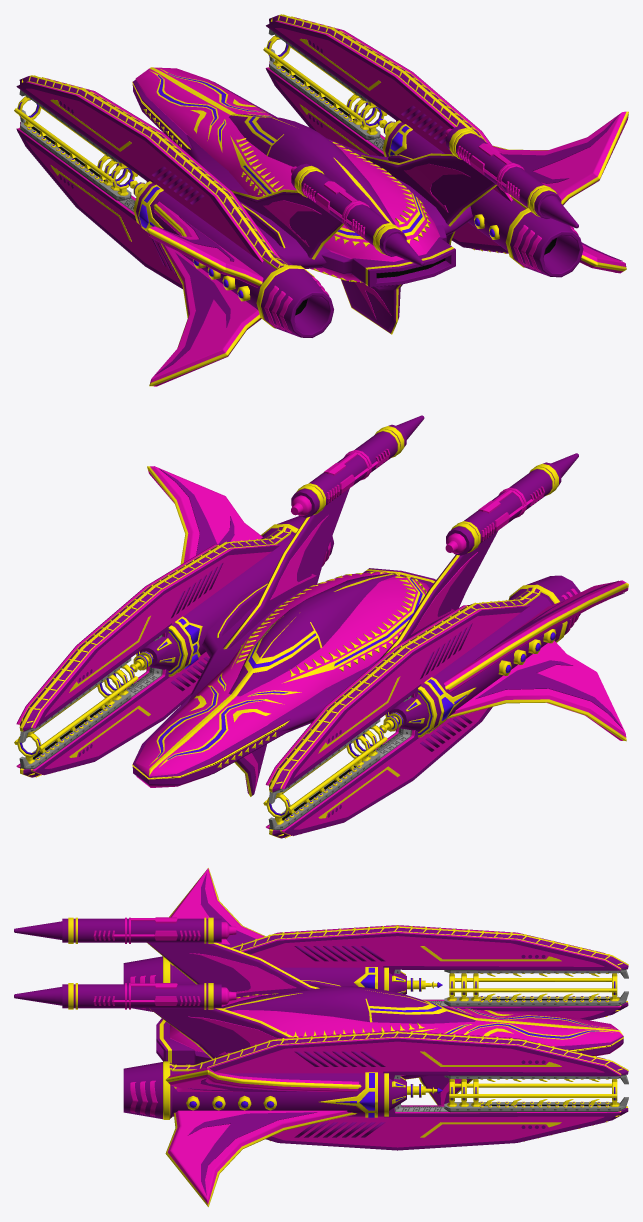
Rendered from AlienStarfighterTest2.fbx.
3 views of the same model, one above another, from view 1: azimuth 30°, elevation 25°; view 2: azimuth 150°, elevation 25°; view 3: azimuth 270°, elevation 25° (orthographic). The views are drawn at different scales.
Visible parts, largest first — view 1: Cylinder.003, Sphere, Cylinder.001, Cube.001, Cube.005, Cylinder.004, Cube.004, Sphere.001, Cylinder.010, Cube.006, Cube.019, Cylinder.006 (+13 smaller); view 2: Cylinder.003, Sphere, Cylinder.001, Cube.005, Sphere.001, Cube.001, Cylinder.004, Cube.004, Cylinder.010, Cube.006, Cube.010, Cube.019 (+10 smaller); view 3: Cylinder.003, Cylinder.001, Sphere, Cylinder.004, Cube.001, Sphere.001, Cube.004, Cube.006, Cube.005, Cylinder.022, Cube.010, Cube.017 (+12 smaller).
Boxes of the visible parts, x1,y1,x2,y2 form: Cylinder.003: [16, 14, 512, 288]; Sphere: [132, 67, 455, 287]; Cylinder.001: [128, 118, 583, 337]; Cube.001: [230, 153, 496, 259]; Cube.005: [147, 111, 628, 287]; Cylinder.004: [291, 126, 578, 265]; Cube.004: [149, 243, 626, 386]; Sphere.001: [229, 114, 395, 225]; Cylinder.010: [183, 135, 472, 268]; Cube.006: [19, 29, 380, 200]; Cube.019: [155, 242, 622, 375]; Cylinder.006: [341, 279, 402, 334]; Cylinder.003: [16, 538, 529, 838]; Sphere: [132, 568, 435, 787]; Cylinder.001: [130, 516, 580, 737]; Cube.005: [147, 466, 628, 692]; Sphere.001: [228, 573, 396, 696]; Cube.001: [223, 488, 498, 662]; Cylinder.004: [291, 415, 578, 555]; Cube.004: [447, 640, 626, 741]; Cylinder.010: [188, 587, 379, 732]; Cube.006: [19, 658, 380, 830]; Cube.010: [171, 563, 472, 751]; Cube.019: [476, 660, 622, 728]; Cylinder.003: [193, 925, 628, 1150]; Cylinder.001: [123, 956, 442, 1119]; Sphere: [156, 994, 623, 1076]; Cylinder.004: [14, 918, 236, 1008]; Cube.001: [147, 942, 319, 1059]; Sphere.001: [221, 986, 476, 1023]; Cube.004: [165, 1110, 356, 1206]; Cube.006: [444, 969, 628, 1112]; Cube.005: [166, 868, 361, 1091]; Cylinder.022: [449, 978, 616, 1097]; Cube.010: [294, 946, 385, 1137]; Cube.017: [188, 953, 296, 1055].
Size of the model in its own units: 619 by 236 by 788.
